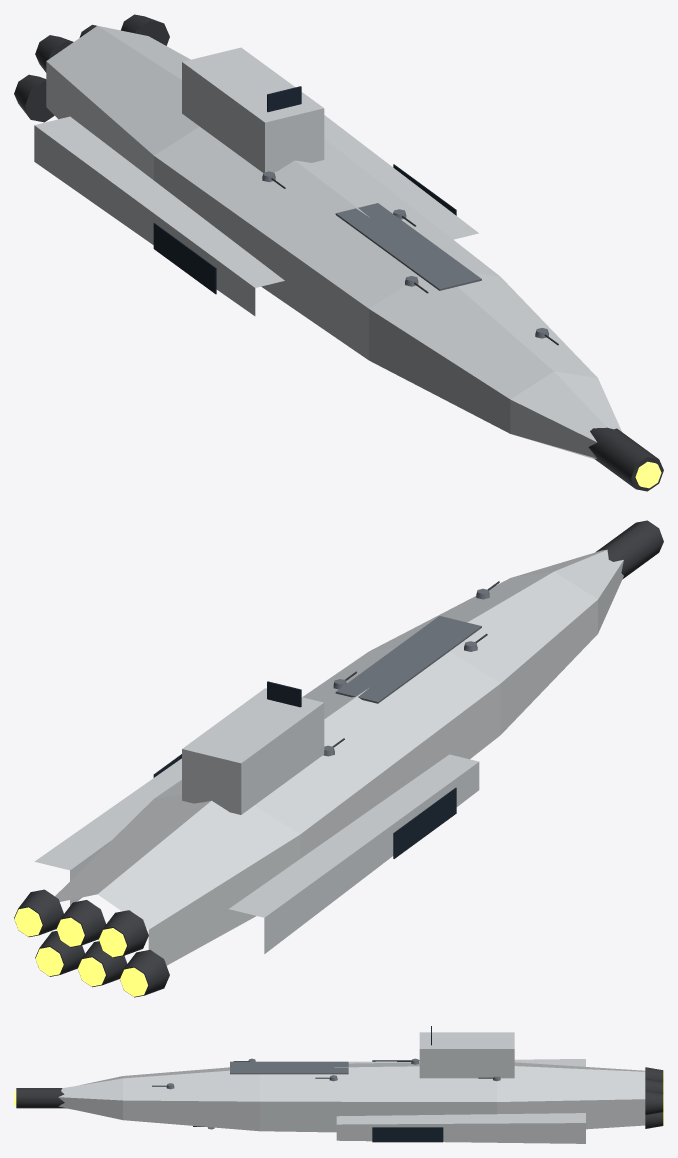
Rendered from space_ship_battleship_mk2.glb.
3 views of the same model, one above another, from view 1: azimuth 30°, elevation 25°; view 2: azimuth 150°, elevation 25°; view 3: azimuth 270°, elevation 25° (orthographic). The views are drawn at different scales.
Parts seen in each view (by area): view 1: body, main_gun, hangar_r, engine_0, engine_5; view 2: body, main_gun, hangar_r, engine_1, engine_0, engine_5, engine_3, engine_2, engine_4; view 3: body, hangar_l, main_gun, engine_5, engine_4, engine_1, engine_3.
Boxes of the visible parts, left/top/right/bottom form: body: left=34, top=25, right=621, bottom=459; main_gun: left=588, top=427, right=663, bottom=491; hangar_r: left=153, top=223, right=216, bottom=294; engine_0: left=14, top=74, right=54, bottom=122; engine_5: left=121, top=14, right=169, bottom=45; body: left=34, top=549, right=623, bottom=965; main_gun: left=595, top=520, right=663, bottom=579; hangar_r: left=393, top=787, right=456, bottom=858; engine_1: left=98, top=910, right=148, bottom=957; engine_0: left=119, top=950, right=169, bottom=997; engine_5: left=14, top=889, right=63, bottom=937; engine_3: left=56, top=900, right=106, bottom=947; engine_2: left=77, top=941, right=127, bottom=987; engine_4: left=35, top=931, right=84, bottom=976; body: left=58, top=1026, right=645, bottom=1143; hangar_l: left=372, top=1127, right=443, bottom=1142; main_gun: left=14, top=1088, right=65, bottom=1108; engine_5: left=645, top=1090, right=663, bottom=1114; engine_4: left=645, top=1111, right=663, bottom=1128; engine_1: left=645, top=1067, right=663, bottom=1082; engine_3: left=645, top=1079, right=663, bottom=1094.
Size of what is drawn, in the model's own units: 28.5 by 19.82 by 117.
